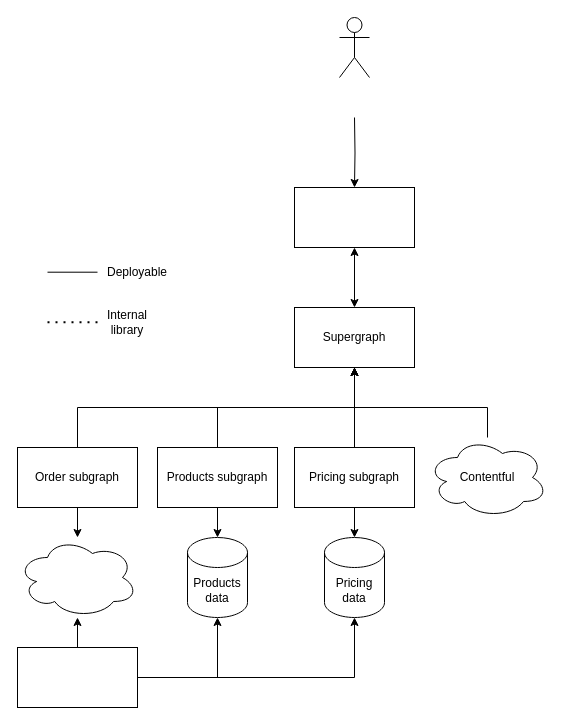
This 565x725 diagram has some shape labels left out. The shapes that lost their labels are listed below. From the top down, each one's centre as x and y in pixels, then its label:
At pixel 354 47: "User".
At pixel 354 217: "Frontend application".
At pixel 77 577: "Medusa".
At pixel 77 677: "Synchronization service".
